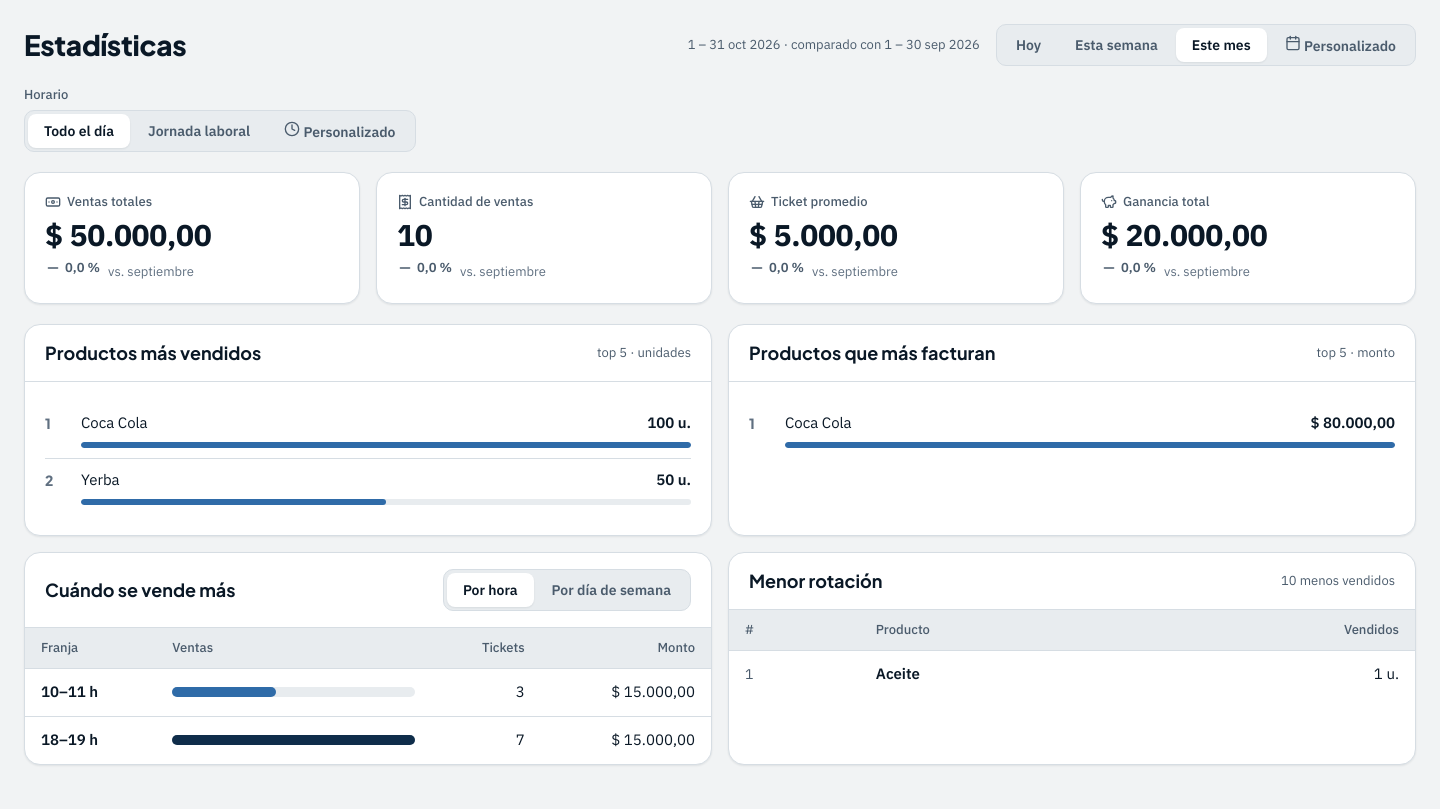
Test: Stats — período personalizado › "Personalizado" muestra Desde / Hasta y no consulta hasta tener ambas fechas
Click the tab "Personalizado" in the row of "1 – 30 sep 2026": (1340, 45) left=1269, top=28, right=1412, bottom=62
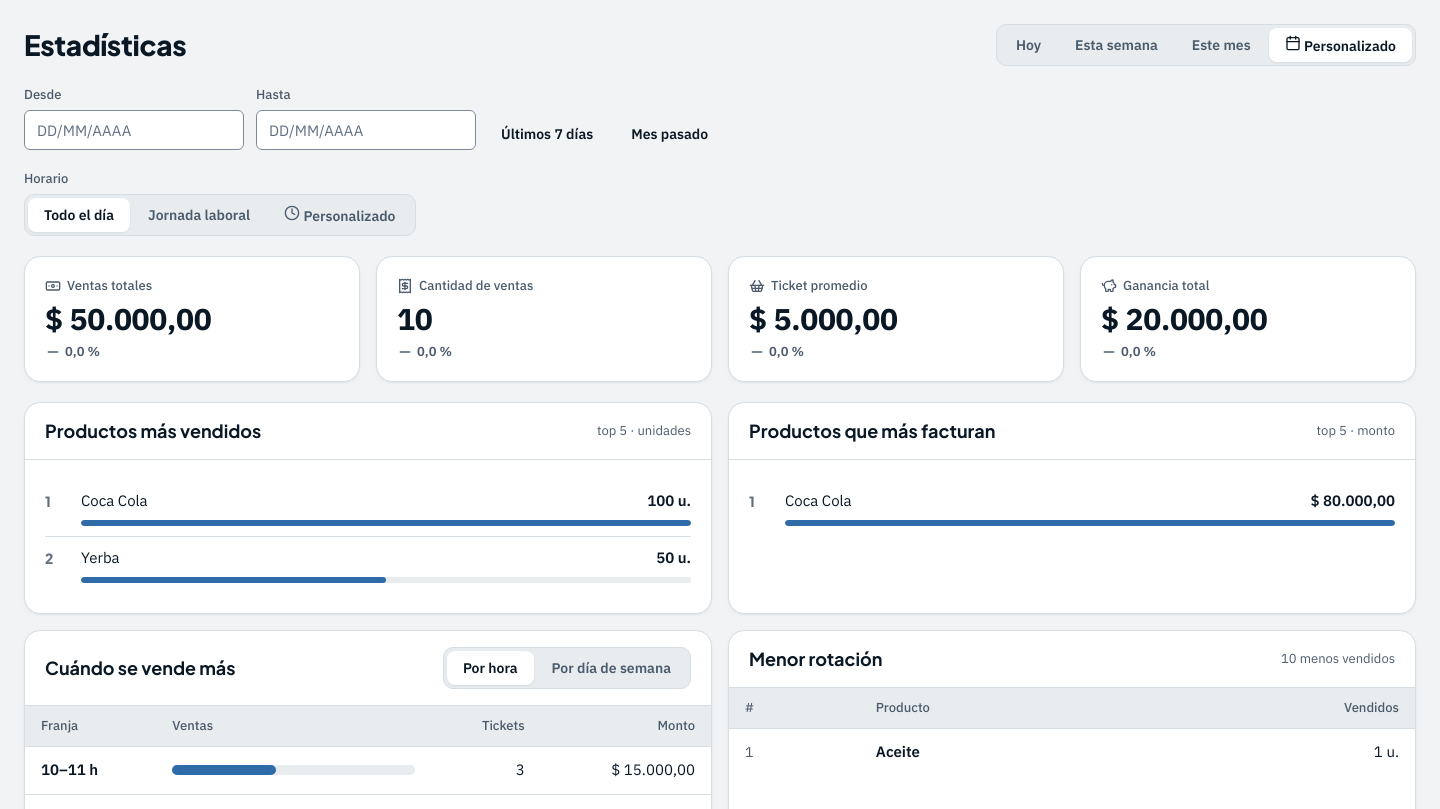
Expected: the field labelled "Desde" is shown, left=24, top=110, right=244, bottom=150
Expected: the field labelled "Hasta" is shown, left=256, top=110, right=476, bottom=150
